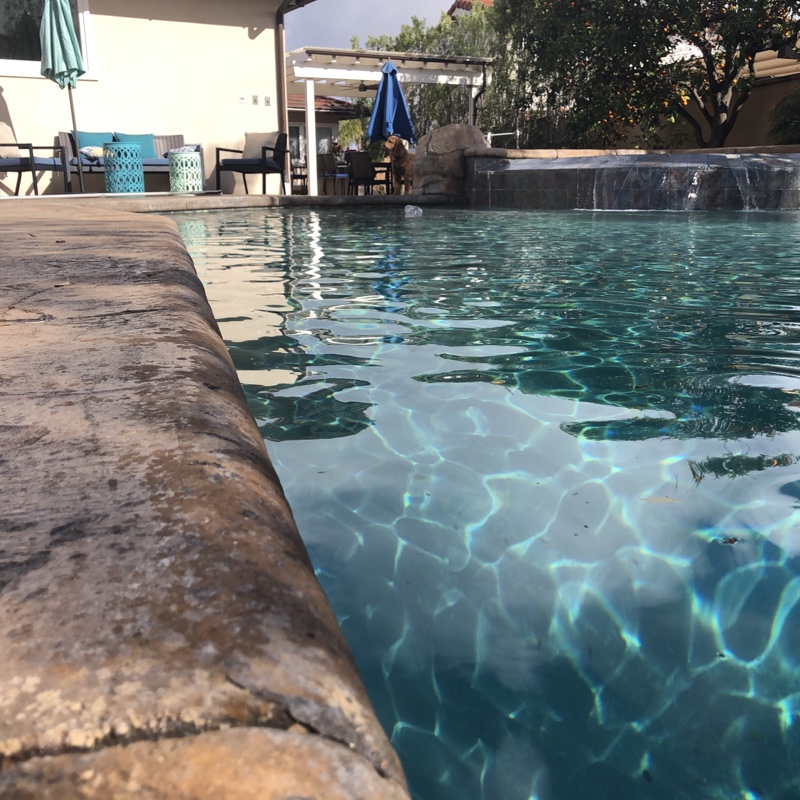Plastic Bottle: (402, 200, 423, 221)
